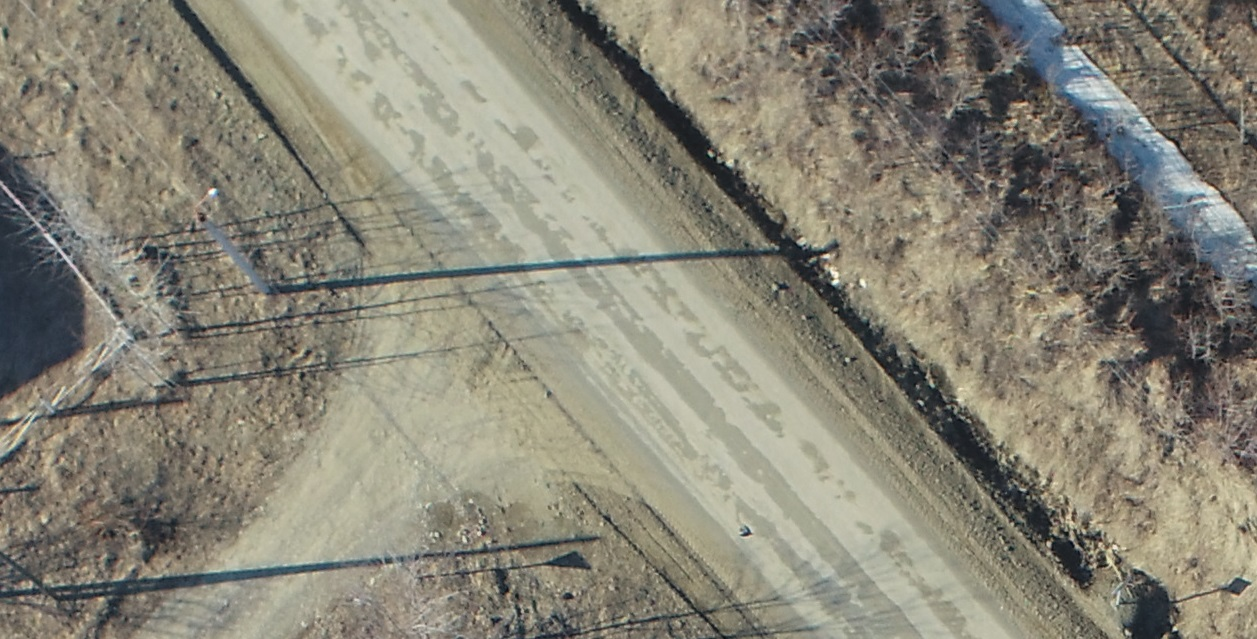opora: (181, 177, 424, 312)
